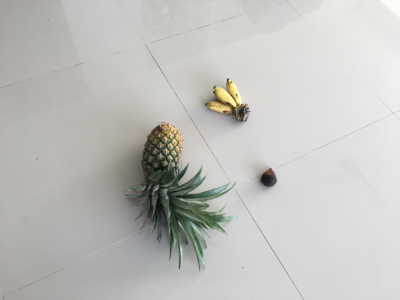banana: (205, 79, 251, 123)
pineapple: (128, 122, 235, 269)
snake fruit: (260, 168, 278, 188)
